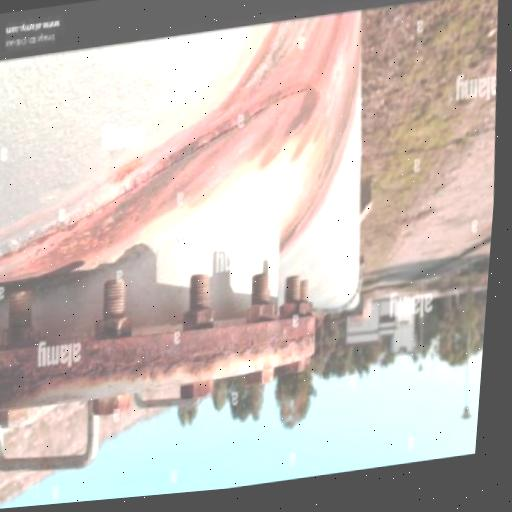corrosion: (0, 6, 380, 277), (0, 264, 335, 429)
